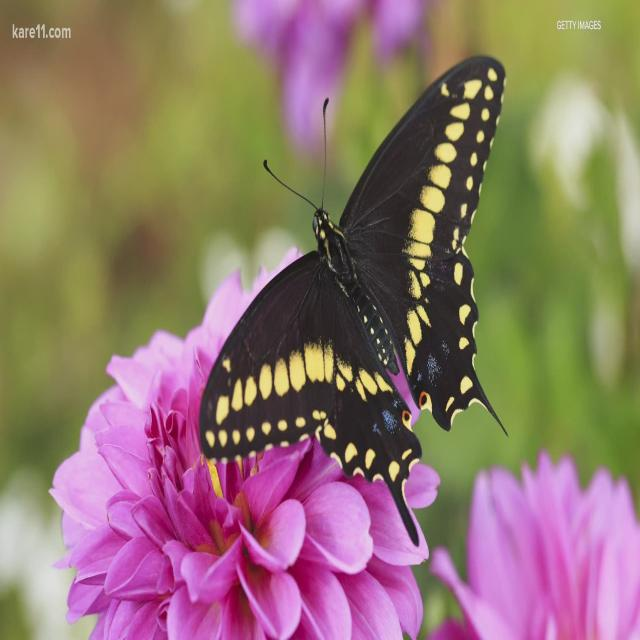butterfly: (271, 155, 484, 494)
